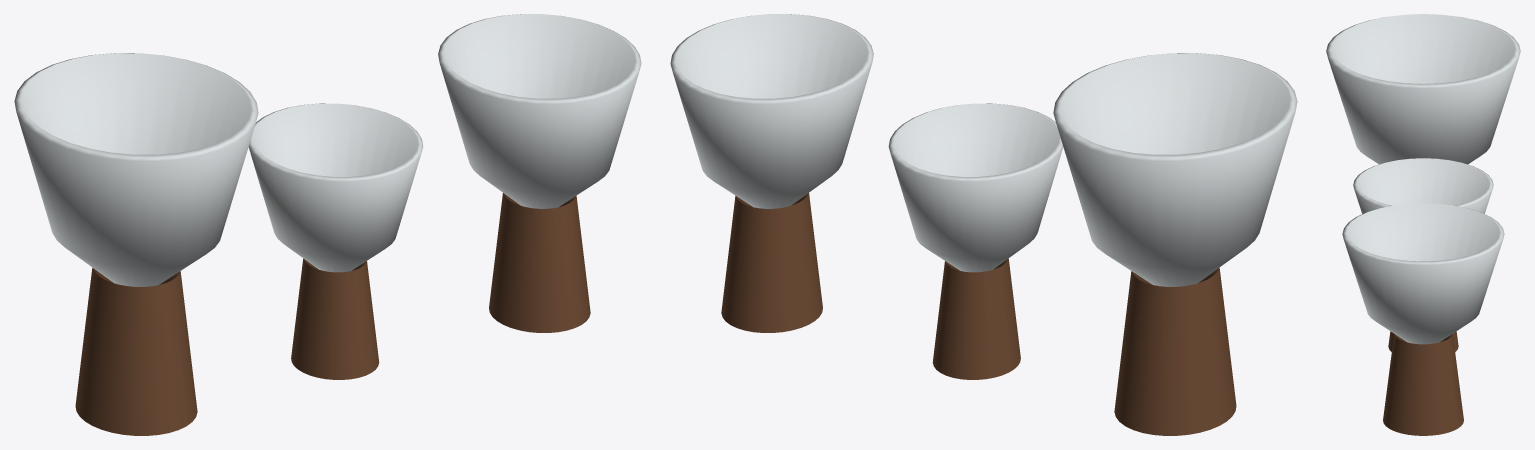
Rendered from wh-silver-bowls-set.glb.
3 renders of one model, left to right at view 1: azimuth 30°, elevation 25°; view 2: azimuth 150°, elevation 25°; view 3: azimuth 270°, elevation 25°, orthographic. The views are drawn at different scales.
Visible parts, largest first — view 1: Silver bowl.003, Wood bowl stand.003; view 2: Silver bowl.003, Wood bowl stand.003; view 3: Silver bowl.003, Wood bowl stand.003.
Part boxes in pixels (x1,y1,x2,y2): Silver bowl.003: [14, 14, 641, 286]; Wood bowl stand.003: [75, 193, 590, 435]; Silver bowl.003: [670, 14, 1297, 286]; Wood bowl stand.003: [721, 193, 1236, 435]; Silver bowl.003: [1326, 14, 1520, 344]; Wood bowl stand.003: [1383, 331, 1463, 435].
Size of the model in its own units: 0.65 by 0.32 by 0.25.
